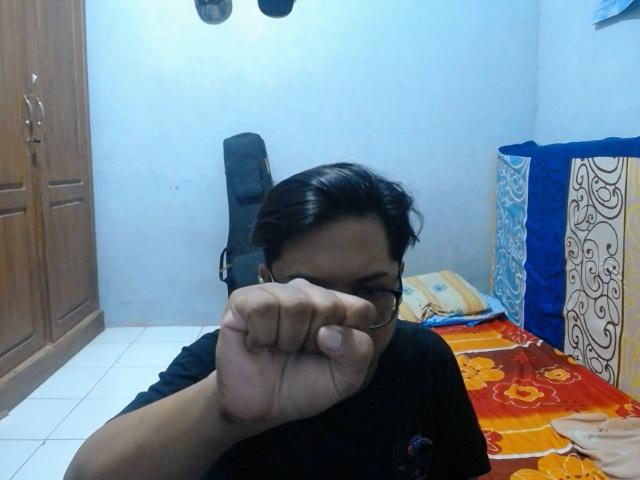Grab: (212, 273, 380, 429)
